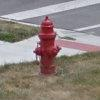Hydrant: (27, 8, 64, 82)
